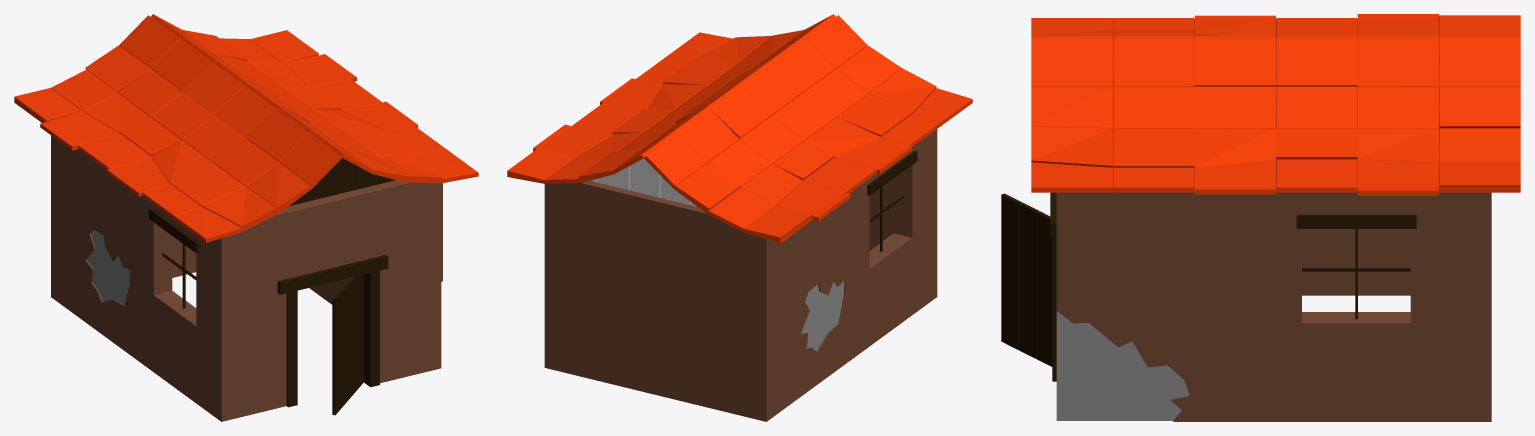
Rendered from Casa.fbx.
3 views of the same model, side by side, from view 1: azimuth 30°, elevation 25°; view 2: azimuth 150°, elevation 25°; view 3: azimuth 270°, elevation 25° (orthographic). The views are drawn at different scales.
Parts seen in each view (by area): view 1: Box001, Box005, Box015, Box007, Box016, Box006, Box008, Box010; view 2: Box001, Box005, Box017, Box010; view 3: Box001, Box005, Box015, Box009, Box007.
Boxes of the visible parts, x1,y1,x2,y2 form: Box001: (51, 135, 442, 421); Box005: (14, 14, 478, 242); Box015: (332, 274, 363, 415); Box007: (364, 270, 379, 387); Box016: (289, 158, 395, 205); Box006: (277, 255, 388, 294); Box008: (286, 290, 297, 407); Box010: (148, 208, 198, 252); Box001: (544, 129, 937, 421); Box005: (507, 14, 972, 243); Box017: (590, 158, 697, 206); Box010: (867, 150, 917, 195); Box001: (1056, 192, 1491, 421); Box005: (1031, 14, 1520, 195); Box015: (1001, 193, 1052, 366); Box009: (1296, 214, 1416, 228); Box007: (1052, 239, 1056, 381).
Bounding box in the file's own units: 77.2 × 95.54 × 64.02.
